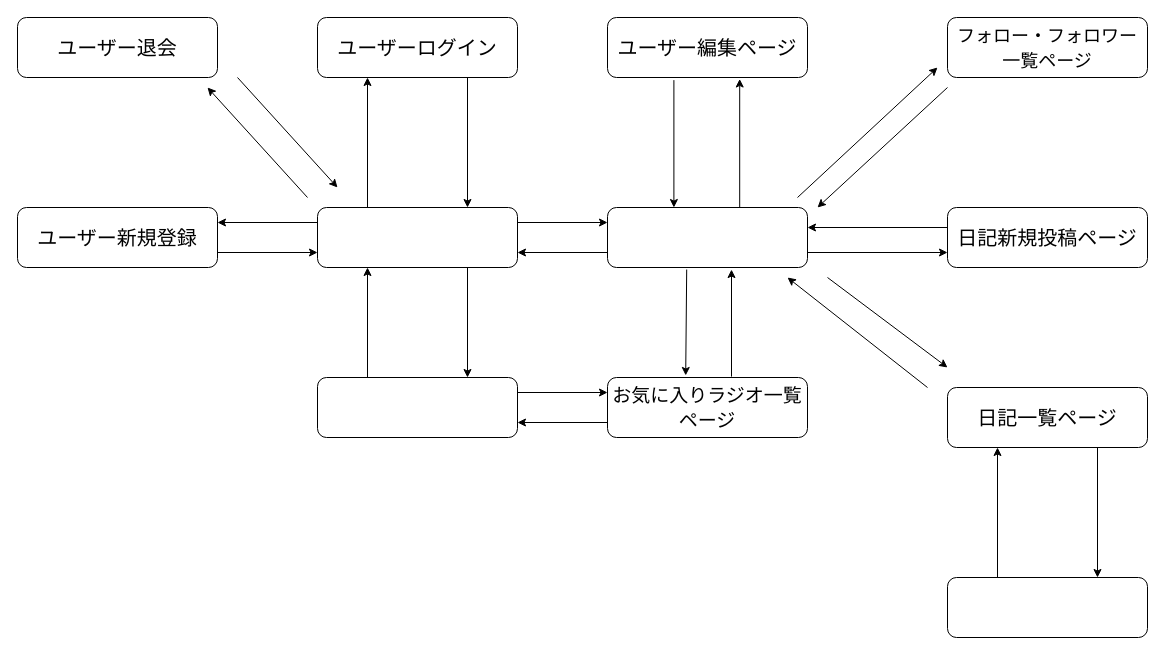
This 1165x655 diagram has some shape labels left out. The centre of each missing label's shape, as x and y in pixels:
マイページ: the point at 707,237
ラジオチャットルーム一覧ページ: the point at 417,237
ラジオチャットルーム詳細 ページ: the point at 417,407
日記編集ページ: the point at 1047,607
